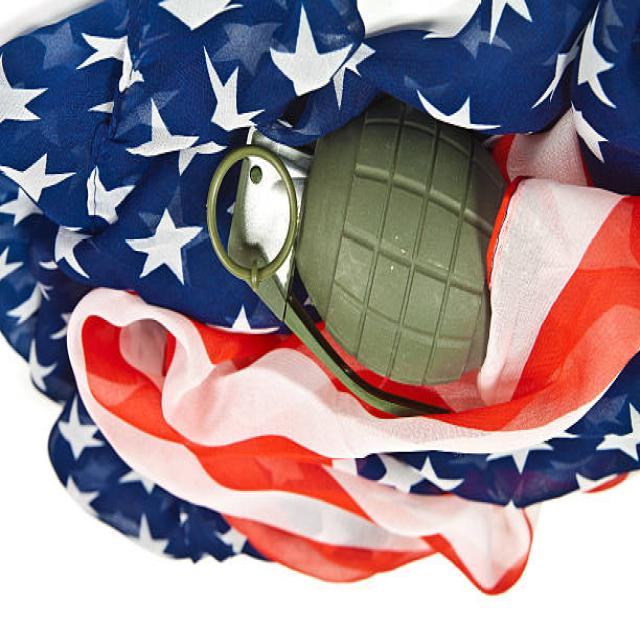grenade: (203, 101, 514, 423)
